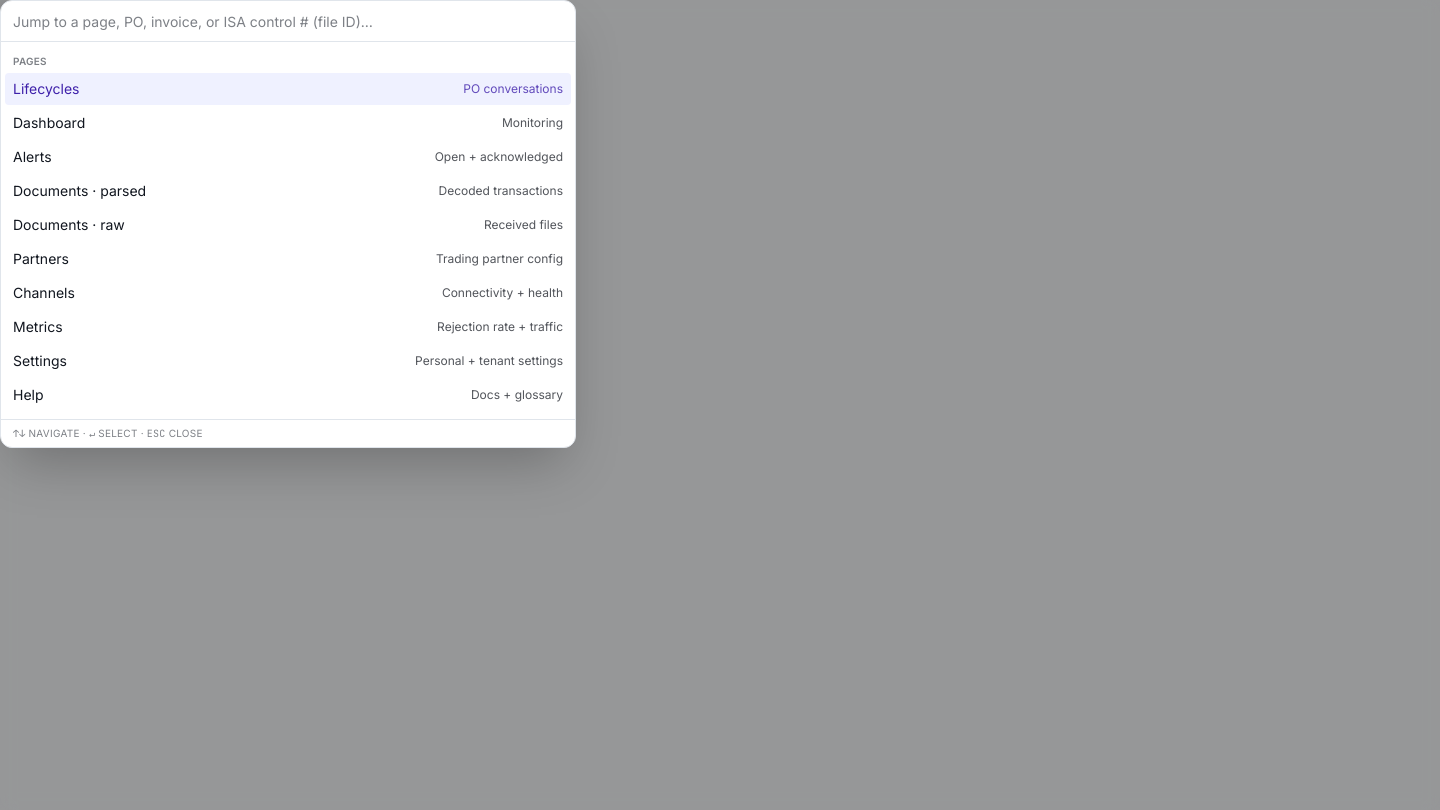
Test: typing a search query surfaces lifecycle hits from /search
This screenshot has width=1440, height=810.
Type "12345" into the field with test id "command-palette-input". click: (288, 22)
box: [13,12,563,32]
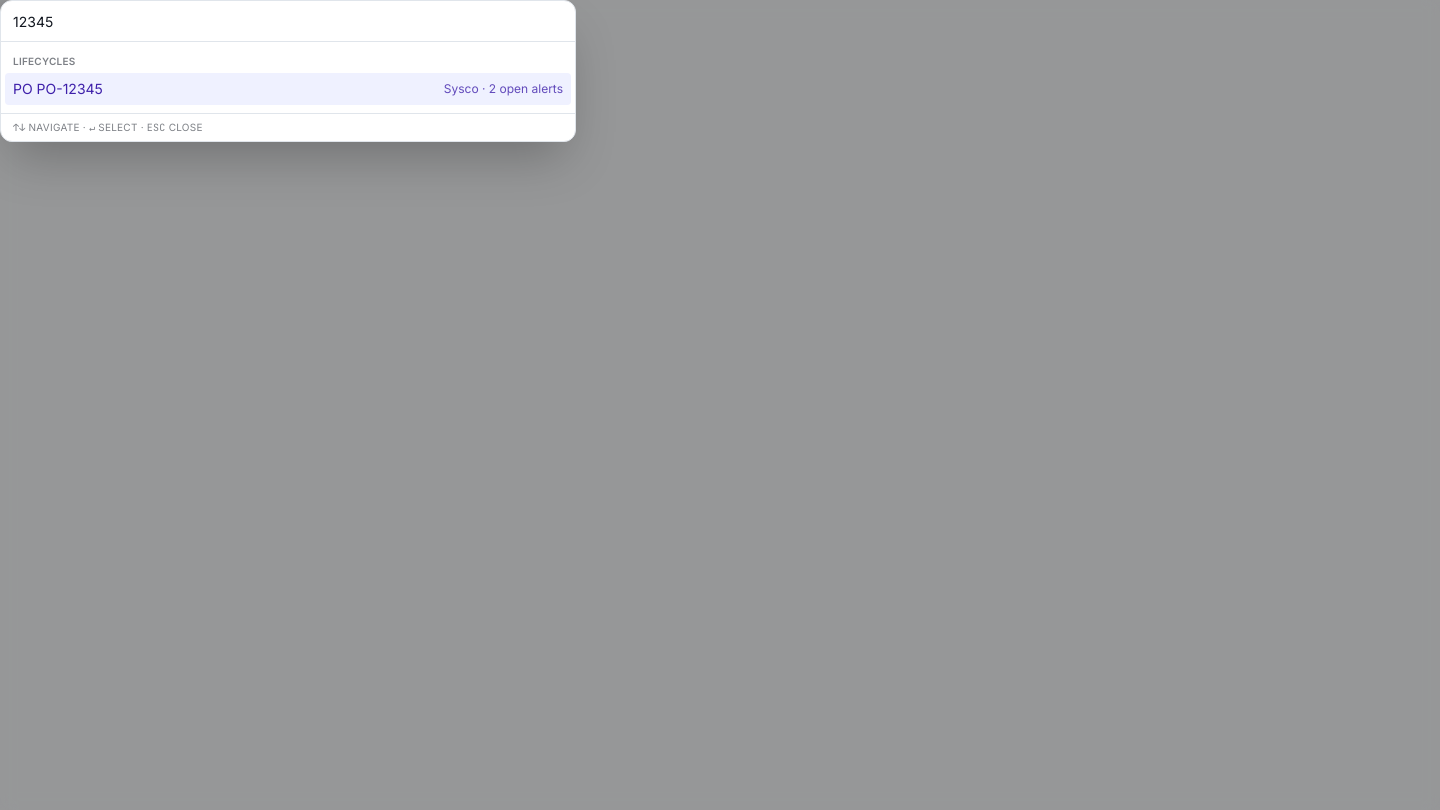
Expected: the text "PO PO-12345" is shown, [13,79,103,99]
